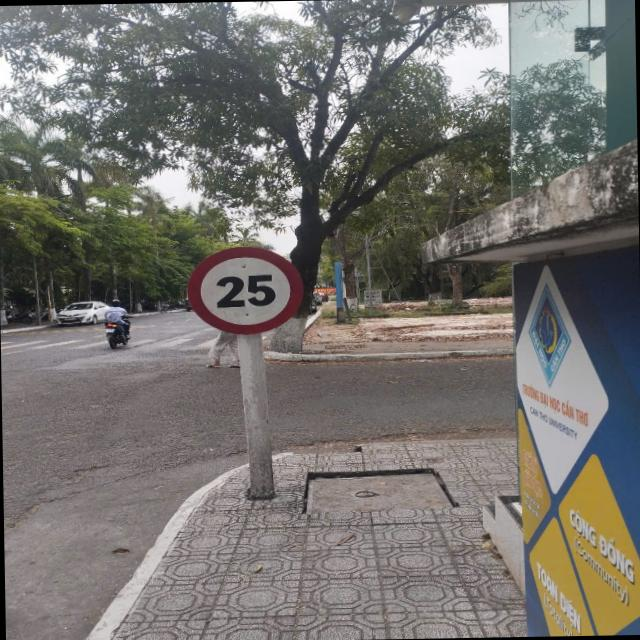Tre_Em: (184, 245, 306, 336)
